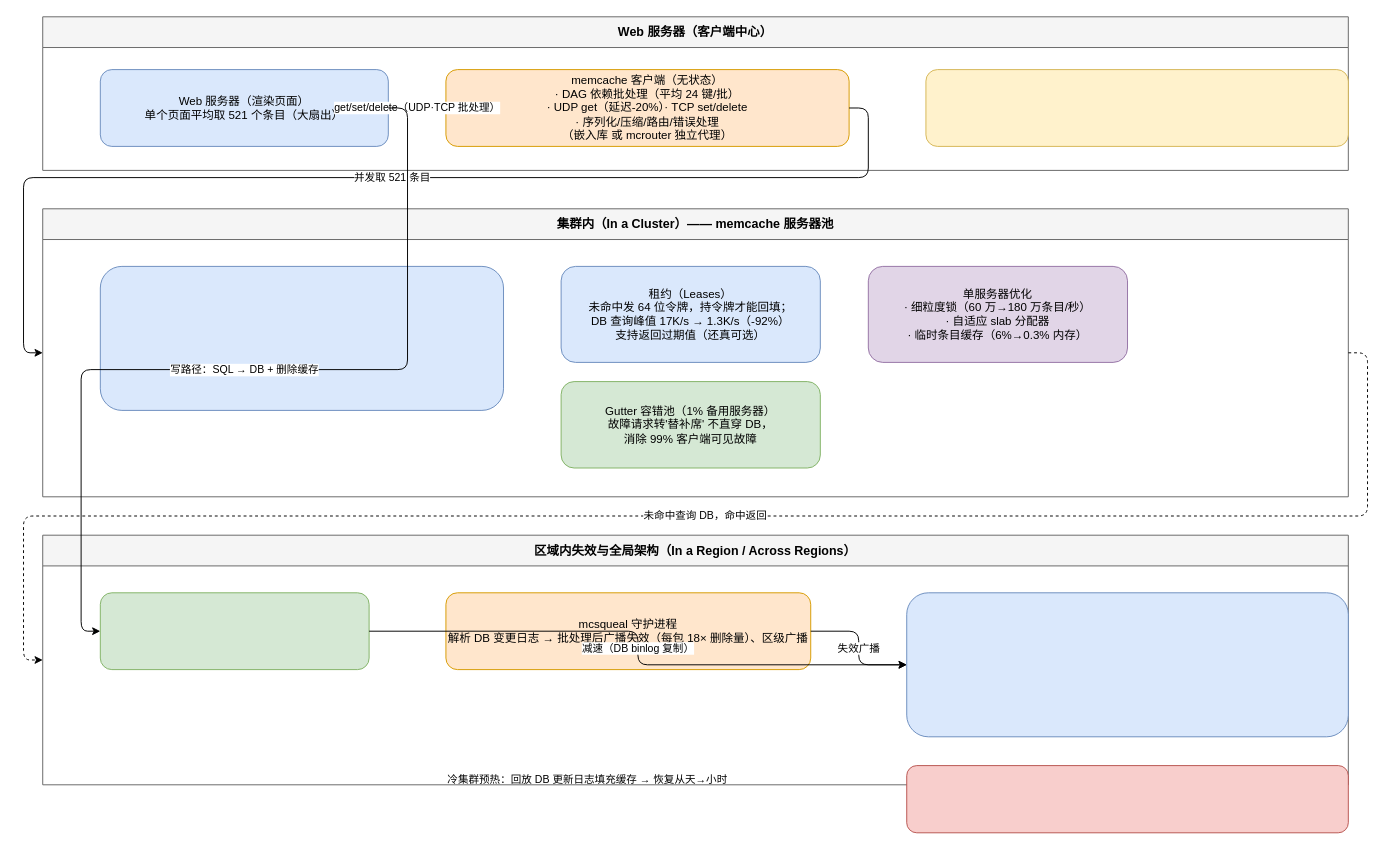
Image size: 1392x850. Some labels were removed from this diagram. Here are the shapes that lost their labels. From the top down, the box of each, then its label:
(925, 69, 1348, 146): 旁路缓存（look-aside）： 读：先查缓存，未命中查库并回填 写：只删缓存（删除幂等），下次读自然刷新
(99, 265, 504, 410): memcached 服务器 × 数百 一致性哈希分布 · 内存哈希表 服务器间不互通信 —— 只负责快
(99, 592, 369, 670): MySQL 数据库（读源） 主 / 从复制：供各集群读副本
(906, 592, 1348, 737): 区域（Region） 主区域：数据流源头 副本区域：跟随同步、可收发写请求（本地队列）
(906, 765, 1348, 833): 远程标记（Remote Markers） 数据库复制延迟 → 副本区不立即删缓存， 标记后延迟失效，消除“读旧新”坑
